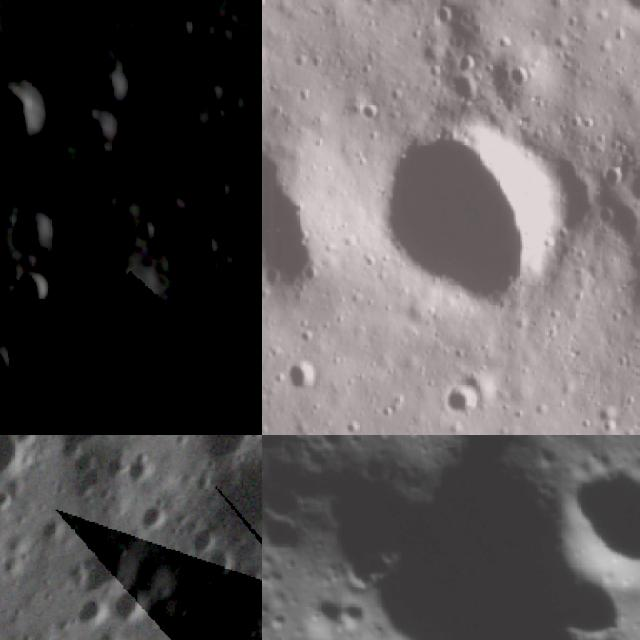crater: (363, 111, 578, 322), (533, 435, 640, 621), (262, 141, 329, 295), (0, 54, 64, 171), (294, 570, 383, 640), (206, 448, 262, 556), (144, 435, 262, 481), (93, 330, 154, 405), (1, 201, 64, 264), (98, 578, 159, 640), (0, 435, 50, 501), (80, 55, 140, 109), (5, 260, 60, 318), (60, 584, 116, 640), (114, 446, 166, 499), (192, 538, 244, 590), (596, 194, 640, 254), (91, 444, 139, 494), (0, 357, 42, 412), (209, 216, 255, 262), (432, 381, 483, 422), (152, 189, 198, 233), (128, 501, 172, 544), (284, 356, 323, 404), (182, 522, 223, 563), (195, 170, 235, 210), (440, 72, 483, 104), (66, 445, 102, 482), (31, 405, 73, 435), (0, 333, 22, 388), (622, 267, 640, 323), (507, 58, 531, 92), (427, 0, 455, 28), (602, 162, 628, 192), (455, 49, 478, 77), (356, 100, 384, 122)
